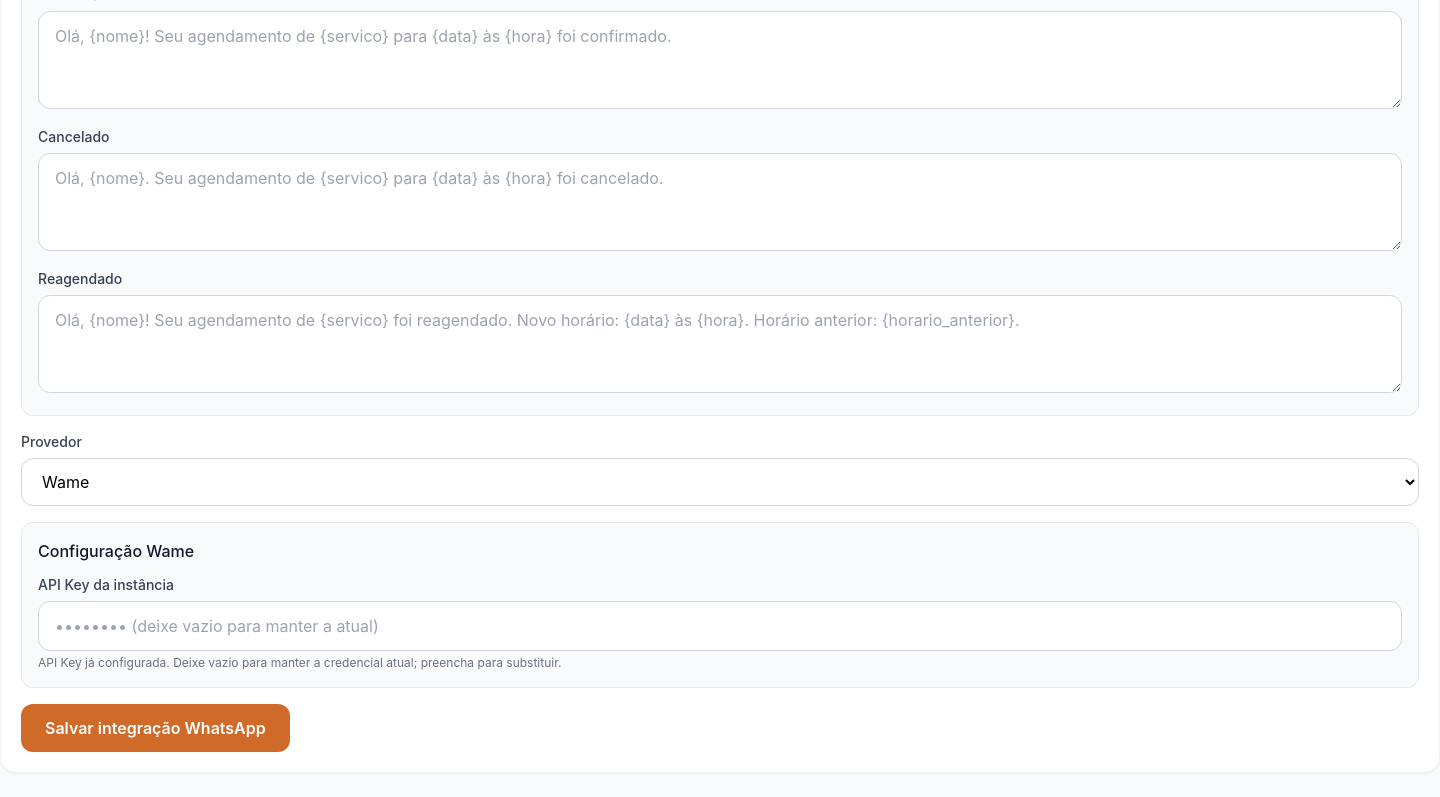
Scenario: WhatsApp settings form › requires credentials for an unconfigured provider
The width and height of the screenshot is (1440, 797).
(page scrolled)
Select "Zapster" in the dropdown labelled "Provedor" at (720, 482), box [21,458,1419,506]
(page scrolled)
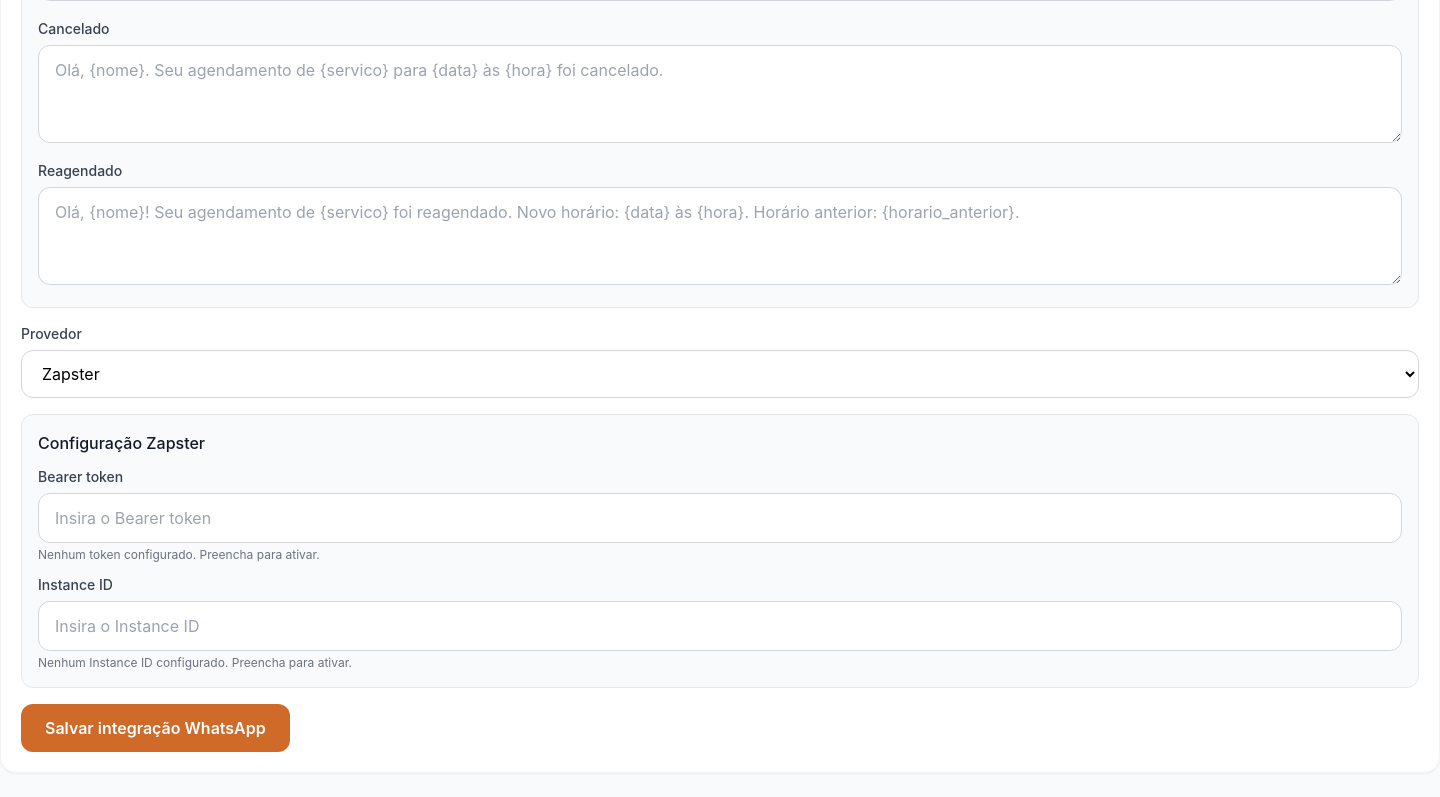
Click the button "Salvar integração WhatsApp" at (155, 728), box [21,704,290,752]
(page scrolled)
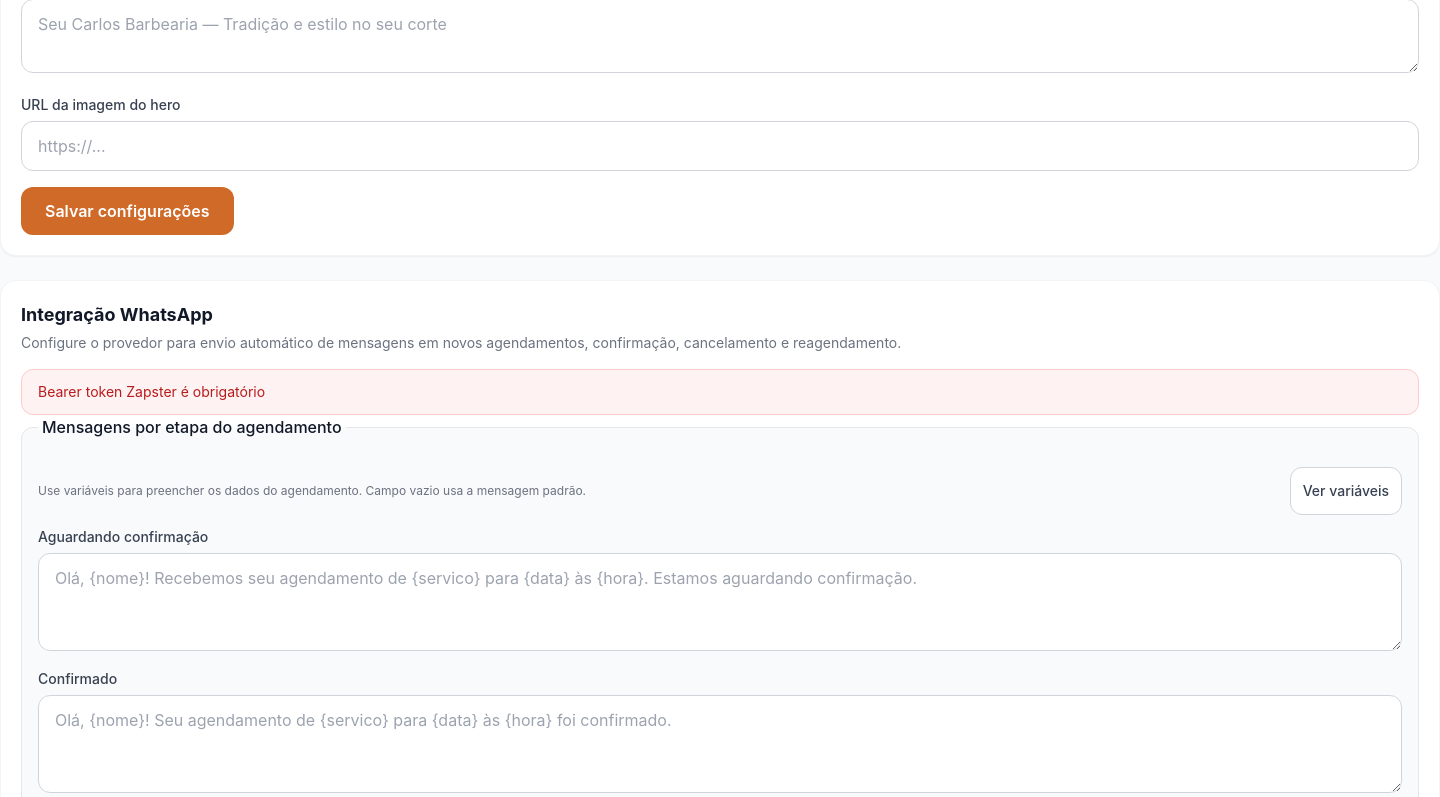
Check: the text "Bearer token Zapster é obrigatório" is shown, box [21,369,1419,415]
